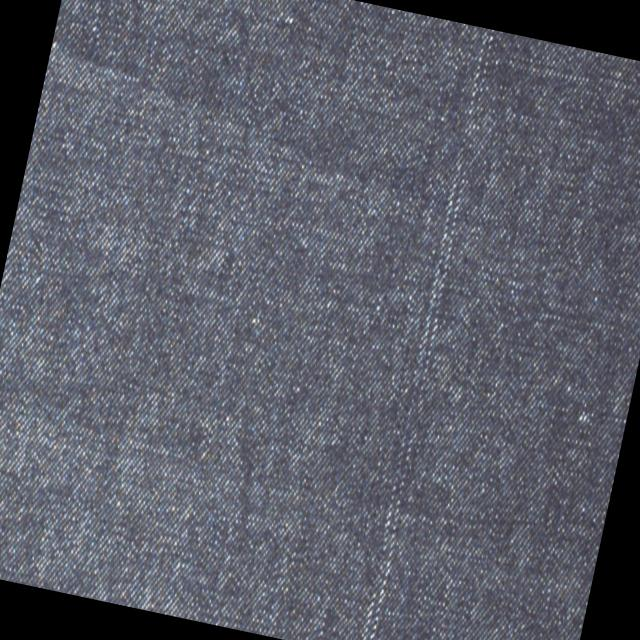Warp_Weft: (350, 27, 505, 640)
